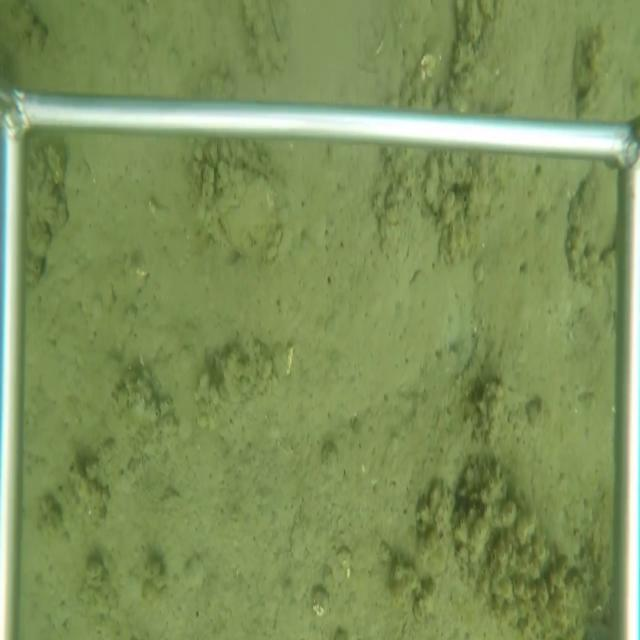Oyster-Indeterminate: (208, 160, 280, 265), (565, 162, 618, 263)
